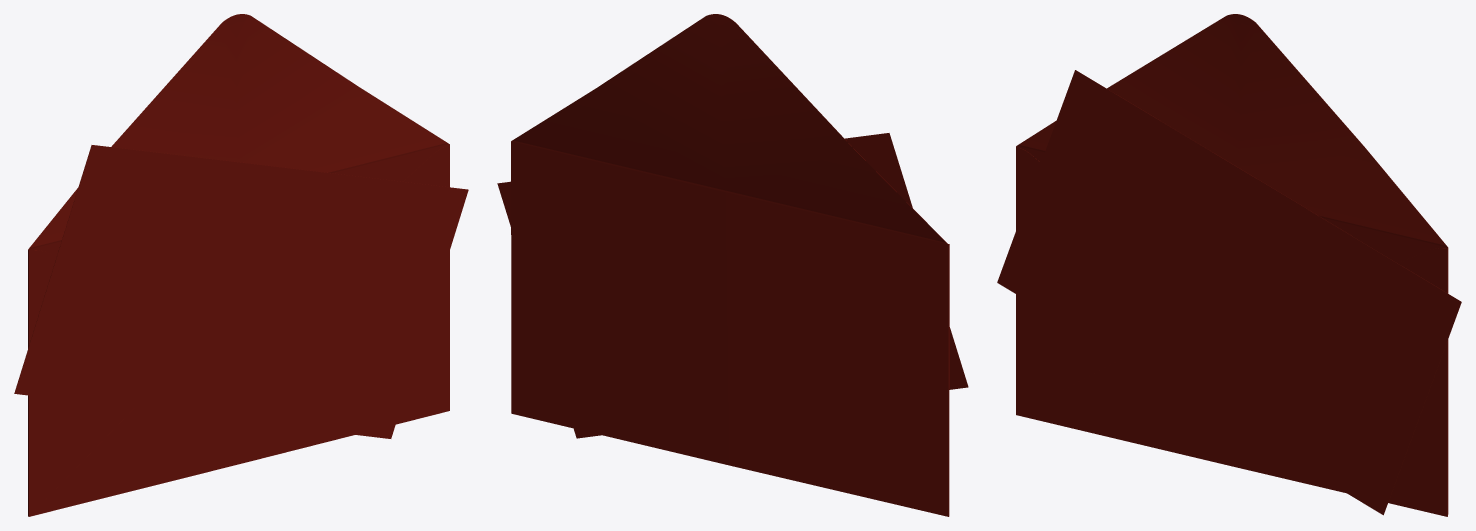
File: CartaPadres.fbx
3 renders of one model, left to right at view 1: azimuth 30°, elevation 25°; view 2: azimuth 150°, elevation 25°; view 3: azimuth 330°, elevation 25°, orthographic. The views are drawn at different scales.
Parts seen in each view (by area): view 1: EnvelopeFREE; view 2: EnvelopeFREE; view 3: EnvelopeFREE.
Part boxes in pixels (x1,y1,x2,y2): EnvelopeFREE: [14, 14, 468, 516]; EnvelopeFREE: [497, 14, 968, 516]; EnvelopeFREE: [997, 14, 1461, 516].
Bounding box in the file's own units: 8.49 × 8.08 × 0.3335.
